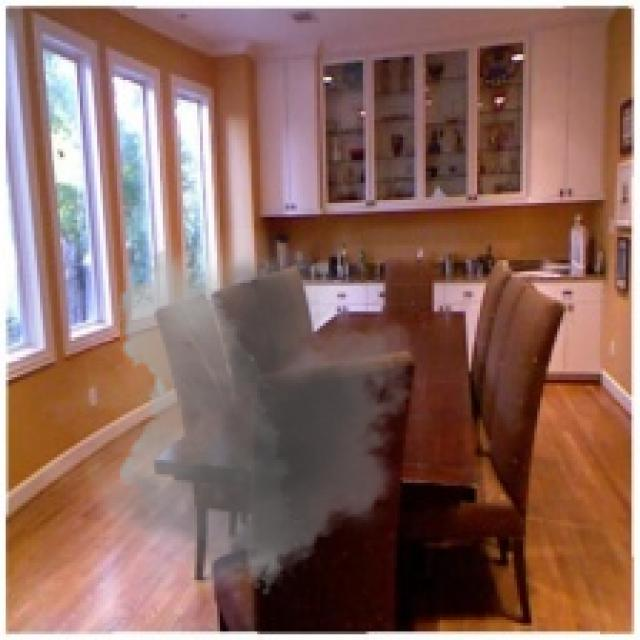smoke: (40, 226, 431, 608)
